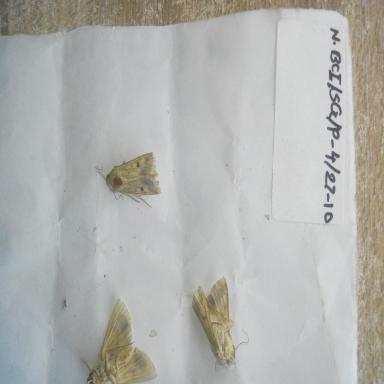abw: (78, 294, 160, 384), (189, 269, 251, 377), (93, 148, 163, 212)
